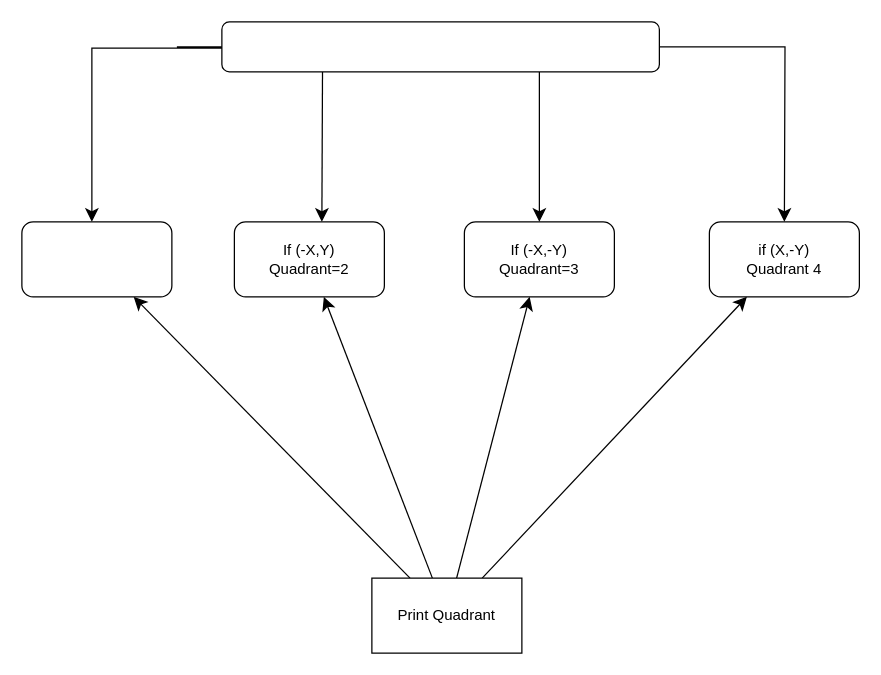
Image size: 881x675. Some labels were removed from this diagram. Here are the shapes that lost their labels. From the top down, the centre of each, then its label:
the point at 440,46: Separate two inputs as cordinates to place them in quadrents
the point at 96,259: if (X,Y) Quadrant=1
